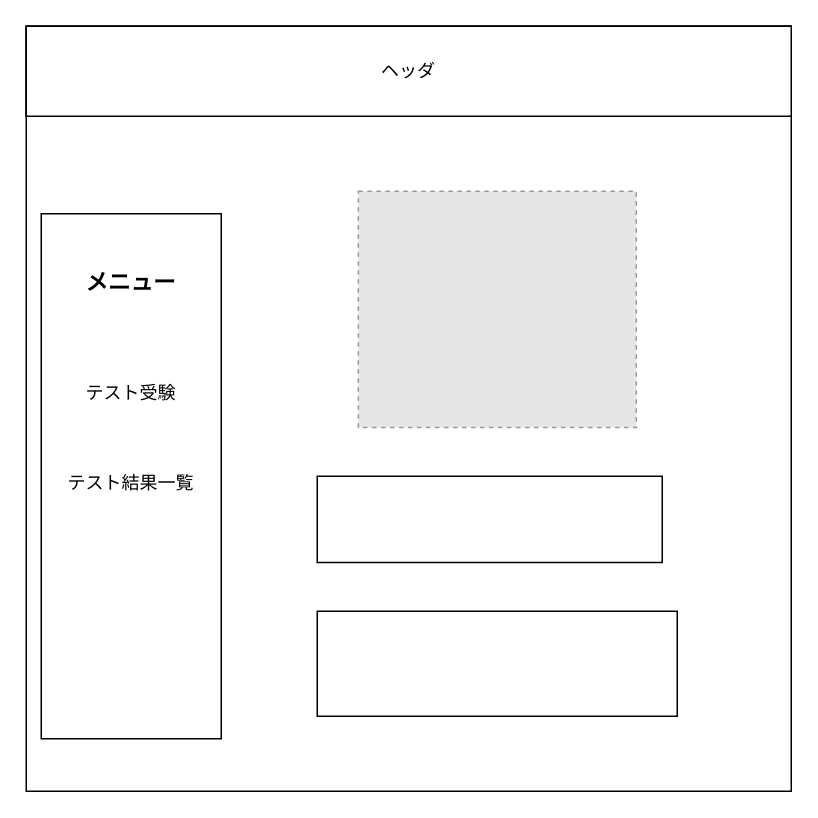
Some shapes in this 818 by 818 pixel diagram are drawn without their labels. Grey dashed boxes stand in for pictures. The shapes that lost their labels are listed below. From the top down, each one's centre as x and y in pixels, then its label:
(489,518): 評価（システム）
(496,663): コメント
